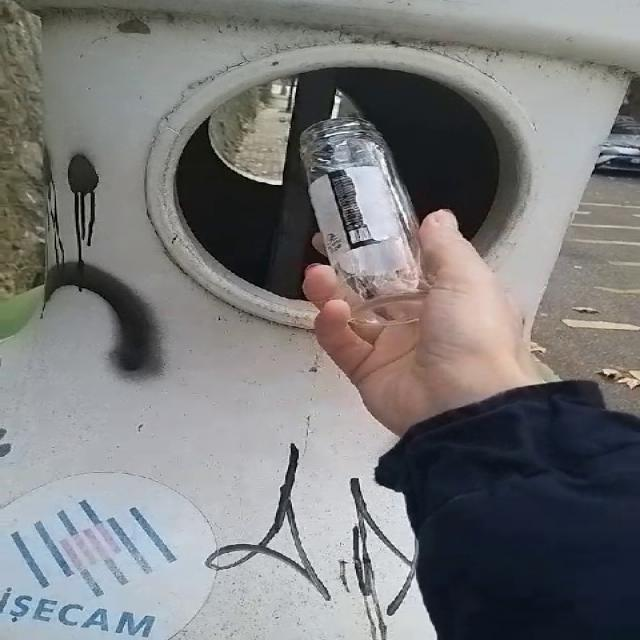Glass: (301, 117, 431, 328)
